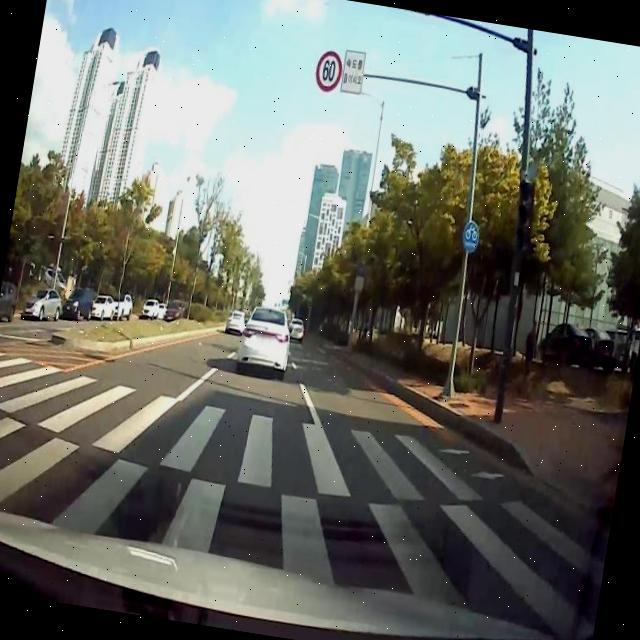crosswalk: (0, 351, 608, 640)
